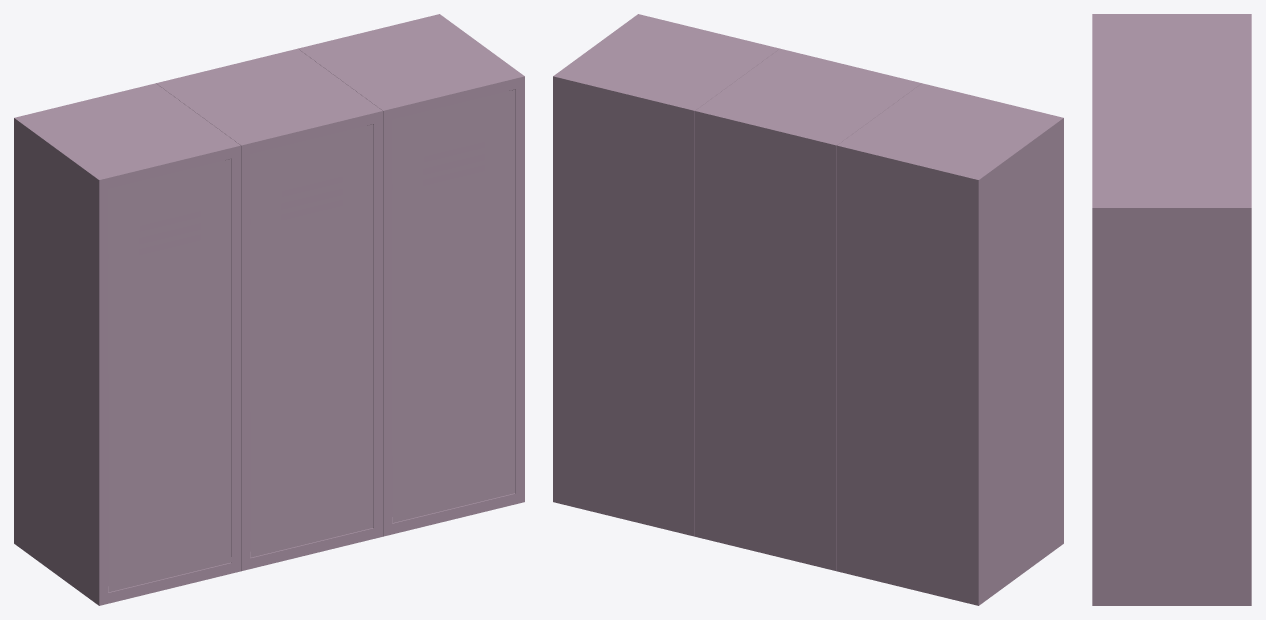
File: Locker.fbx
3 renders of one model, left to right at view 1: azimuth 30°, elevation 25°; view 2: azimuth 150°, elevation 25°; view 3: azimuth 270°, elevation 25°, orthographic. The views are drawn at different scales.
Parts seen in each view (by area): view 1: Locker; view 2: Locker; view 3: Locker.
Part boxes in pixels (bbox=[...]): Locker: bbox=[14, 14, 524, 605]; Locker: bbox=[553, 14, 1063, 605]; Locker: bbox=[1092, 14, 1251, 605].
Bounding box in the file's own units: 195 × 187 × 67.64.
